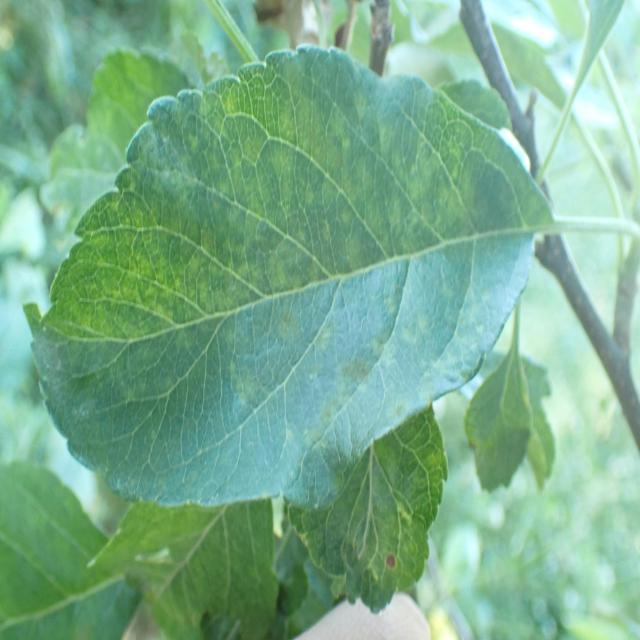scab: (54, 102, 545, 488)
